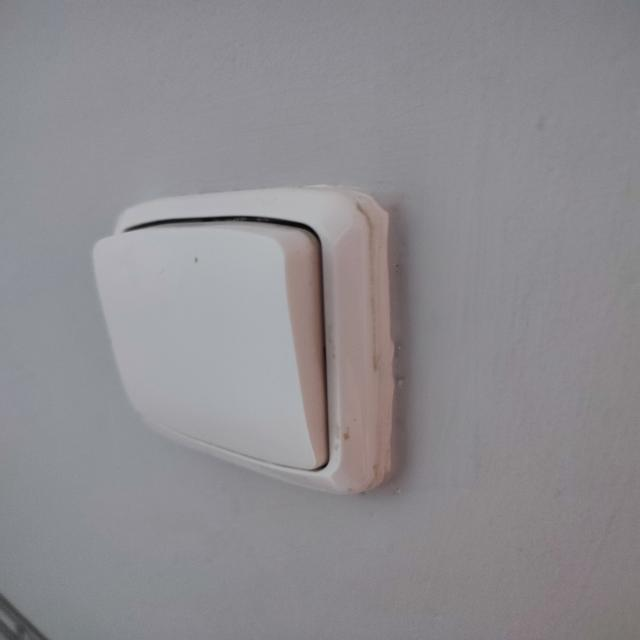house switch: (91, 187, 387, 497)
